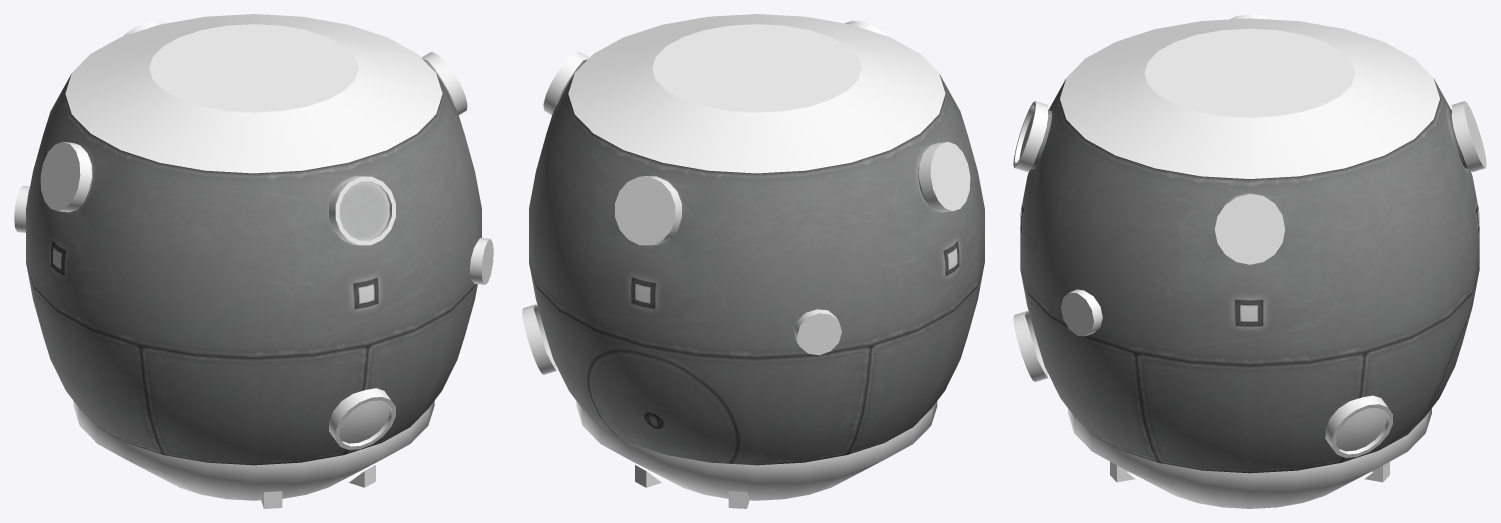
The model's file is virgo_orbital_module_s1_1_interior.obj.
3 renders of one model, left to right at view 1: azimuth 30°, elevation 25°; view 2: azimuth 150°, elevation 25°; view 3: azimuth 270°, elevation 25°, orthographic.
Visible parts, largest first — view 1: mesh2, mask, windows2; view 2: mesh2, mask; view 3: mesh2, mask.
Boxes of the visible parts, box(x1,y1,x2,y2) form: mesh2: box(26, 74, 481, 465); mask: box(14, 14, 493, 508); windows2: box(339, 181, 389, 240); mesh2: box(529, 74, 984, 465); mask: box(522, 14, 970, 508); mesh2: box(1020, 79, 1479, 473); mask: box(1013, 14, 1486, 508).
Bounding box in the file's own units: 1.26 × 1.15 × 1.26.
Materials: 3 (2 with a texture image).
